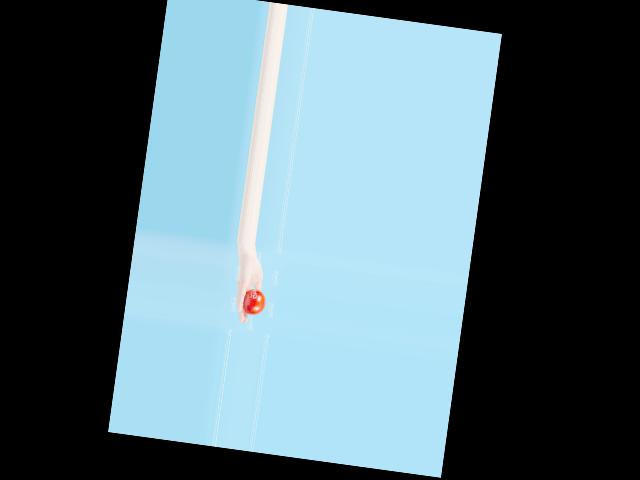tomato: (242, 287, 267, 316)
